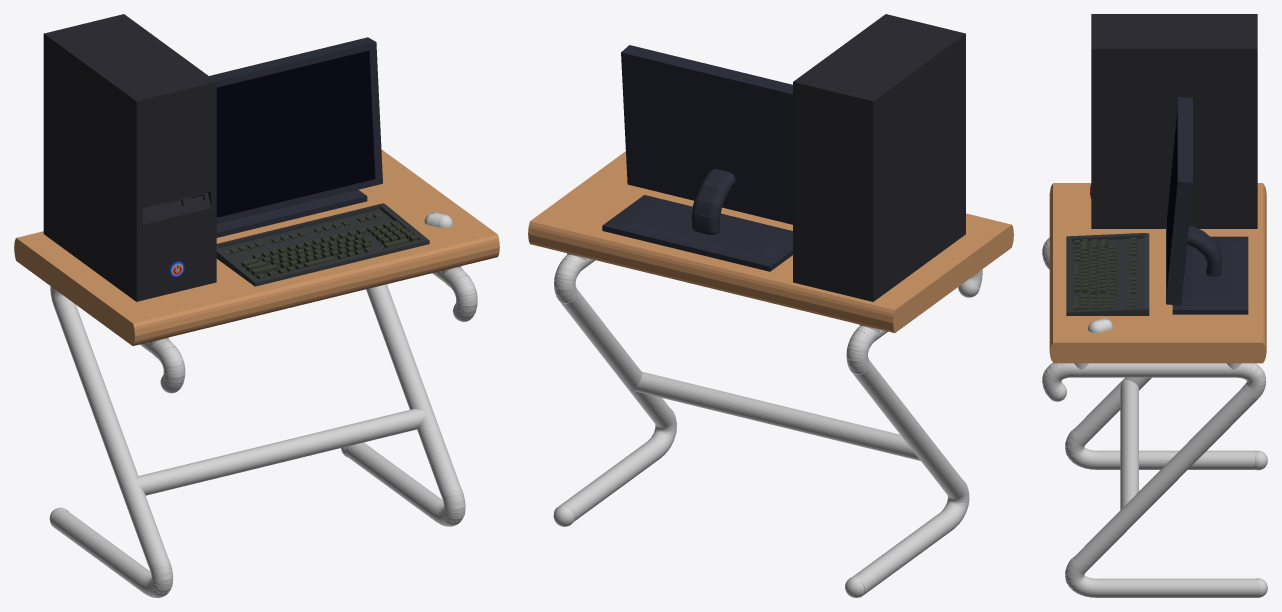
Rendered from Desktop2.fbx.
3 renders of one model, left to right at view 1: azimuth 30°, elevation 25°; view 2: azimuth 150°, elevation 25°; view 3: azimuth 270°, elevation 25°, orthographic. The views are drawn at different scales.
Visible parts, largest first — view 1: 立方体.003, 立方体.004, 立方体, 円柱.005, 円柱.027, 立方体.005, 円柱.008, 立方体.001, 円柱.021, 立方体.002; view 2: 立方体.003, 立方体.001, 立方体.004, 立方体.002, 円柱.005, 円柱.027, 円柱.008, 円柱.022; view 3: 立方体.003, 立方体.004, 円柱.005, 円柱.008, 立方体.005, 立方体.002, 立方体.001, 円柱.006, 円柱.027, 円柱.021, 立方体, 円柱.022.
Boxes of the visible parts, x1,y1,x2,y2 form: 立方体.003: (43, 14, 216, 301); 立方体.004: (14, 149, 499, 345); 立方体: (216, 50, 375, 217); 円柱.005: (53, 284, 460, 566); 円柱.027: (135, 409, 427, 495); 立方体.005: (216, 203, 429, 286); 円柱.008: (50, 442, 443, 592); 立方体.001: (209, 37, 382, 223); 円柱.021: (152, 268, 477, 390); 立方体.002: (216, 189, 367, 237); 立方体.003: (793, 14, 965, 301); 立方体.001: (621, 45, 792, 224); 立方体.004: (528, 151, 1013, 332); 立方体.002: (602, 195, 792, 271); 円柱.005: (559, 290, 964, 497); 円柱.027: (634, 371, 920, 460); 円柱.008: (554, 440, 955, 597); 円柱.022: (554, 254, 878, 374); 立方体.003: (1091, 14, 1257, 228); 立方体.004: (1049, 183, 1266, 363); 円柱.005: (1074, 377, 1259, 570); 円柱.008: (1096, 450, 1259, 597); 立方体.005: (1066, 233, 1149, 315); 立方体.002: (1172, 236, 1248, 314); 立方体.001: (1166, 96, 1192, 305); 円柱.006: (1073, 363, 1236, 377); 円柱.027: (1120, 380, 1138, 509); 円柱.021: (1042, 237, 1073, 396); 立方体: (1167, 113, 1177, 289); 円柱.022: (1233, 363, 1266, 398).
Size of the model in its own units: 1000 by 1307 by 598.
